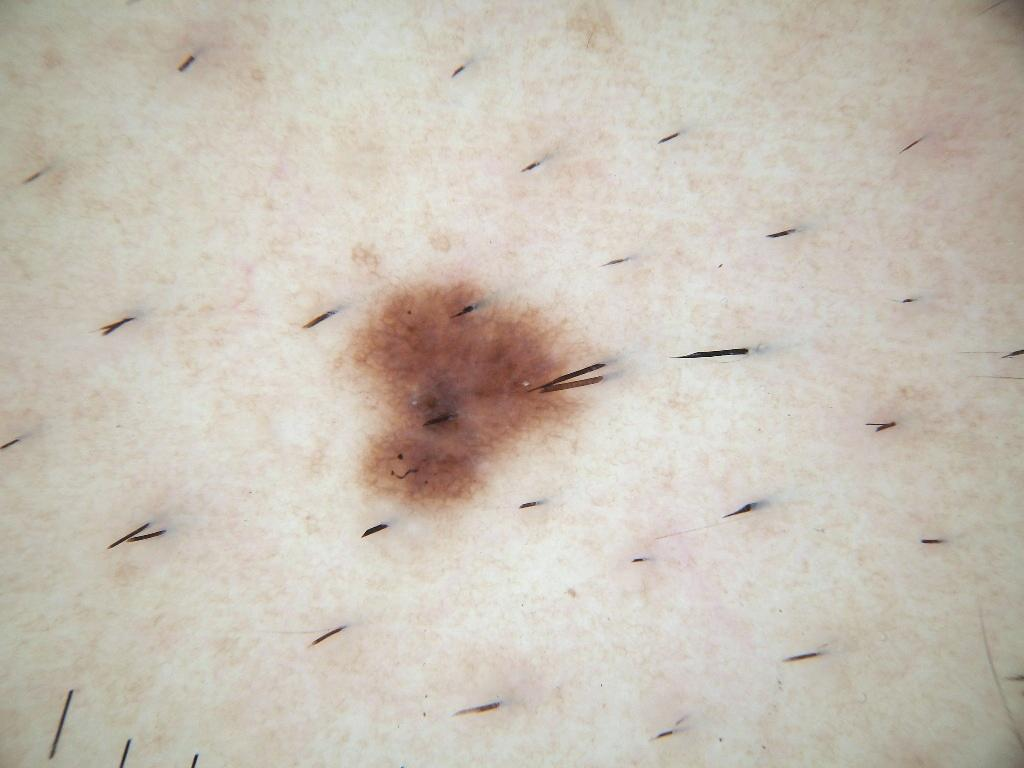Detected Lesion: (339, 272, 582, 506)
